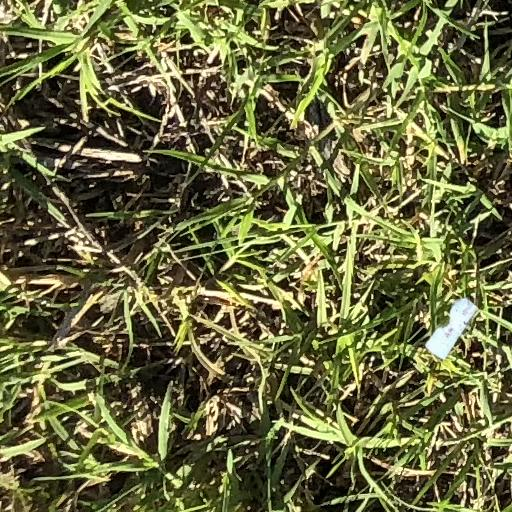smoke: (426, 299, 477, 359)
